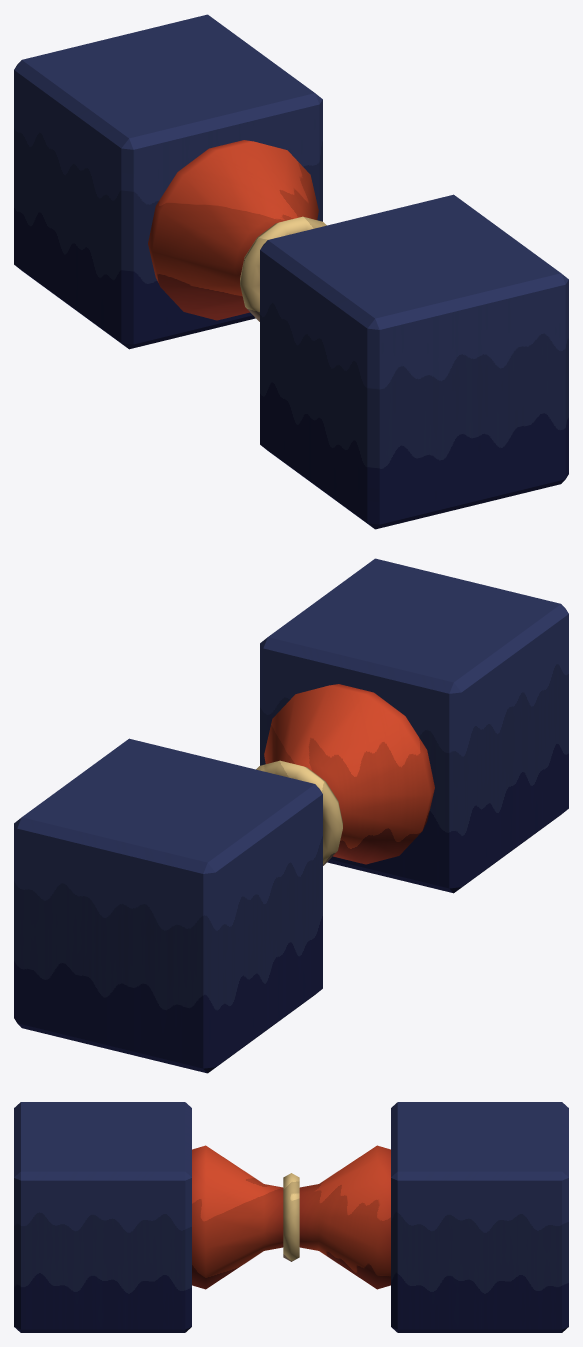
File: R4C_STRUT_STANDARD_LOD1.glb
The picture shows the model from 3 angles, top to bottom: view 1: azimuth 30°, elevation 25°; view 2: azimuth 150°, elevation 25°; view 3: azimuth 270°, elevation 25°; orthographic projection. The views are drawn at different scales.
Parts seen in each view (by area): view 1: R4C_STRUT_STANDARD_LOD1; view 2: R4C_STRUT_STANDARD_LOD1; view 3: R4C_STRUT_STANDARD_LOD1.
Part boxes in pixels (left/top/right/bottom): R4C_STRUT_STANDARD_LOD1: left=14, top=14, right=568, bottom=529; R4C_STRUT_STANDARD_LOD1: left=14, top=558, right=568, bottom=1073; R4C_STRUT_STANDARD_LOD1: left=14, top=1102, right=568, bottom=1332.
Bounding box in the file's own units: 0.52 × 0.52 × 1.62.
3 materials, 3 textured.
